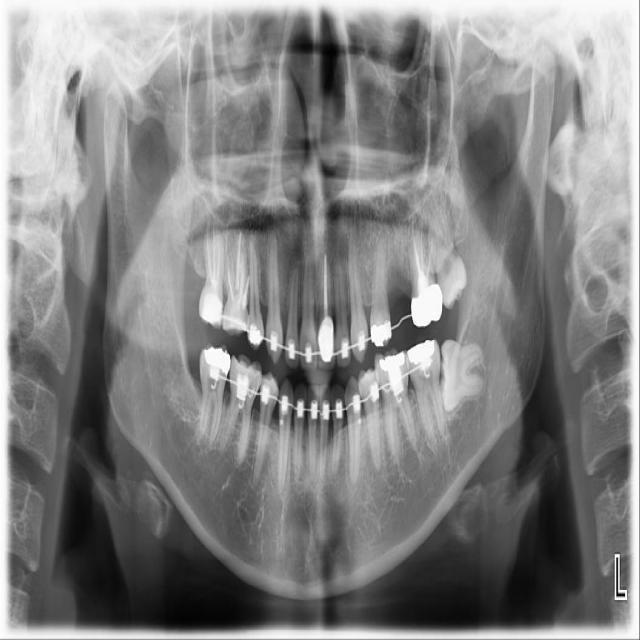Crown: (411, 284, 443, 328), (316, 326, 336, 371)
Filling: (405, 339, 441, 387), (374, 348, 409, 395), (199, 344, 231, 392), (221, 294, 249, 338), (198, 284, 223, 331)
Root Canal Treatment: (205, 218, 212, 283), (234, 233, 240, 292), (225, 253, 233, 293), (411, 231, 419, 271), (321, 251, 326, 312), (216, 229, 221, 277), (425, 245, 431, 272), (420, 222, 423, 271), (211, 239, 214, 269), (243, 283, 245, 301)
impacted tooth: (438, 339, 493, 414)
